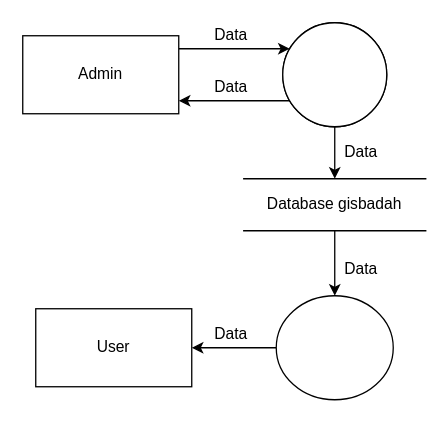
Image size: 448x422. Some labels were removed from this diagram. The shapes that lost their labels are listed below. From the top down, each one's centre as x and y in pixels, then its label:
At (x=334, y=74): "1.0 SIG Peta Tempat Ibadah".
At (x=334, y=347): "2.0 Melihat Data & Peta".
